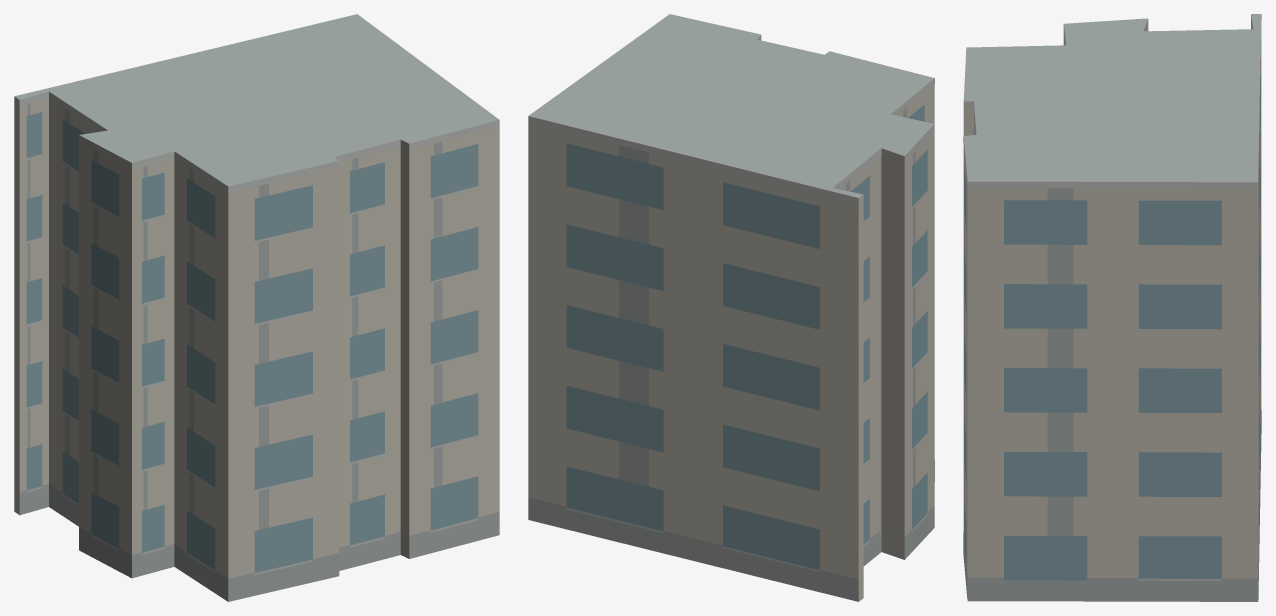
Rendered from survey-upis-32540603.glb.
3 renders of one model, left to right at view 1: azimuth 30°, elevation 25°; view 2: azimuth 150°, elevation 25°; view 3: azimuth 270°, elevation 25°, orthographic. The views are drawn at different scales.
Parts seen in each view (by area): view 1: survey-upis-32540603.tmp; view 2: survey-upis-32540603.tmp; view 3: survey-upis-32540603.tmp.
Boxes of the visible parts, left/top/right/bottom form: survey-upis-32540603.tmp: left=14, top=14, right=499, bottom=601; survey-upis-32540603.tmp: left=528, top=14, right=934, bottom=601; survey-upis-32540603.tmp: left=963, top=14, right=1261, bottom=601.
Size of the model in its own units: 13.13 by 15.25 by 9.82.
